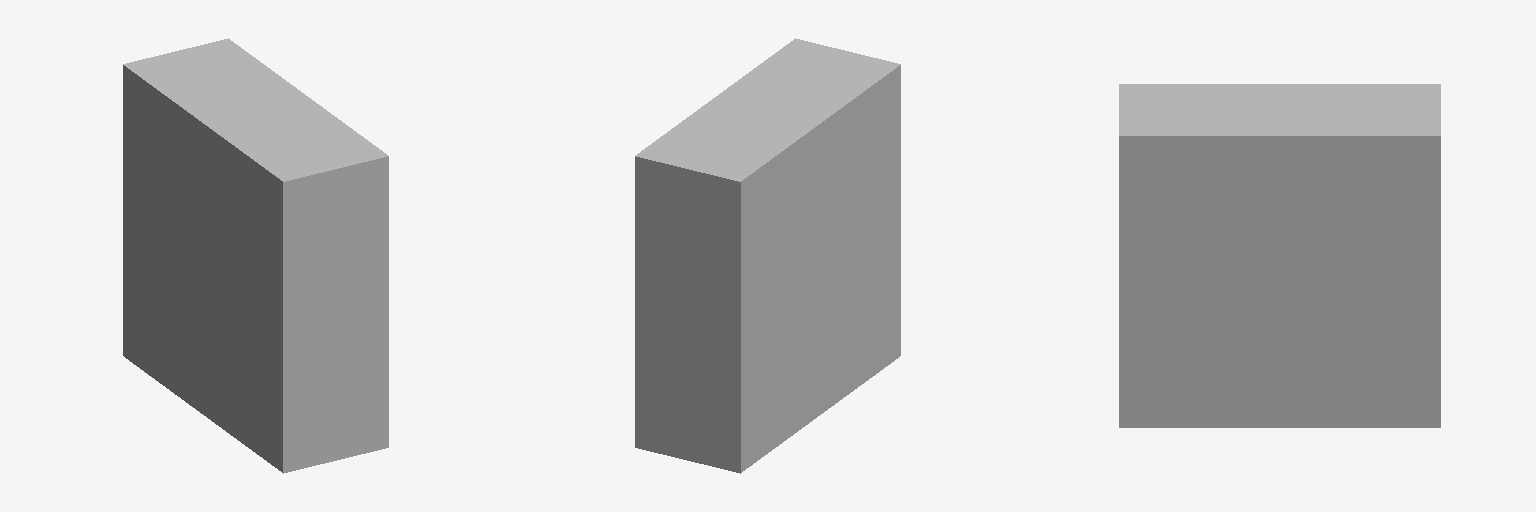
3 views of the same model, side by side, from view 1: azimuth 30°, elevation 25°; view 2: azimuth 150°, elevation 25°; view 3: azimuth 270°, elevation 25° (orthographic).
Visible parts, largest first — view 1: 立方体.002; view 2: 立方体.002; view 3: 立方体.002.
Boxes of the visible parts, box(x1,y1,x2,y2) form: 立方体.002: box(123, 38, 388, 473); 立方体.002: box(635, 38, 900, 473); 立方体.002: box(1119, 84, 1440, 427).
Size of the model in its own units: 1.14 by 3 by 3.